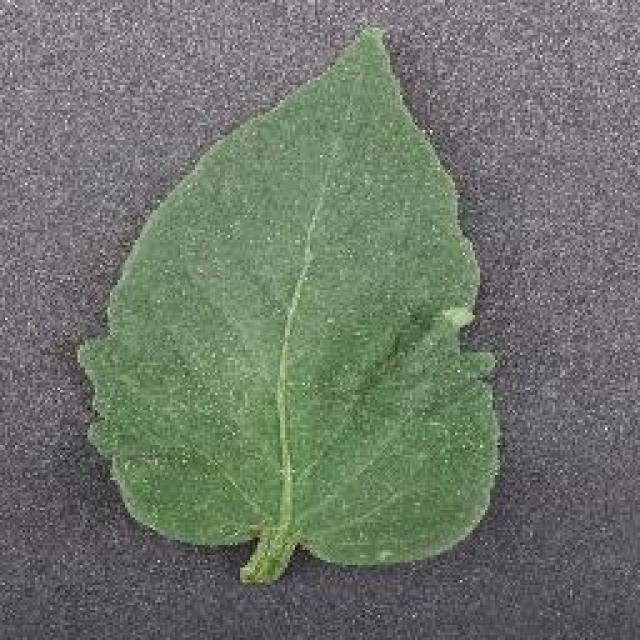Tomato___healthy: (76, 20, 497, 581)
